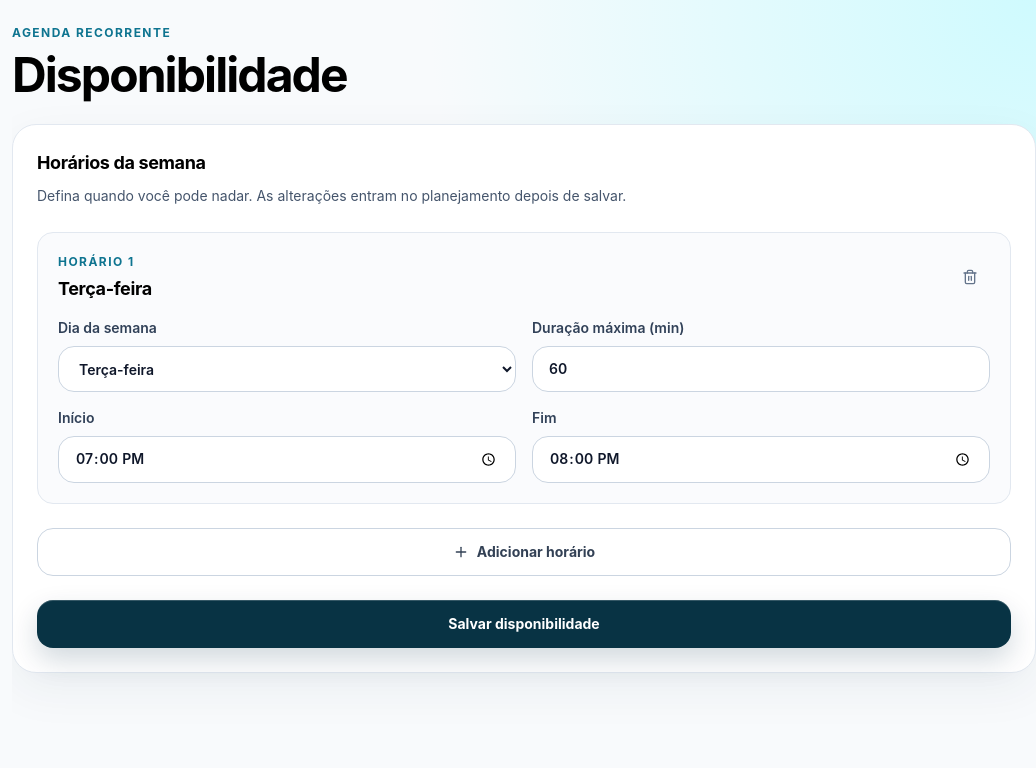
Test: AvailabilityPage › prevents saving a window whose end is not after its start
Expected: the heading "Terça-feira" is shown, left=58, top=275, right=152, bottom=302
Replace the text in the time field labelled "Fim" with "18:00" at coordinates (761, 459), box left=532, top=436, right=990, bottom=483
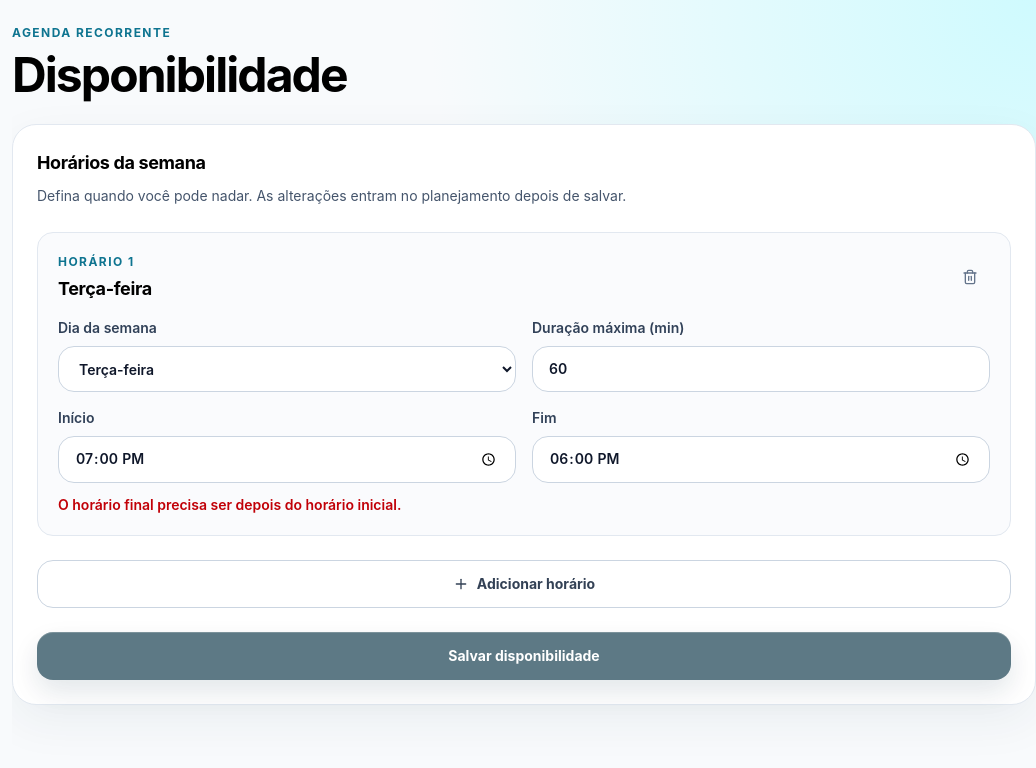
Expected: the message reads "O horário final precisa ser depois do horário inicial.", left=58, top=496, right=401, bottom=513
Expected: the button "Salvar disponibilidade" is disabled, left=37, top=632, right=1011, bottom=680
